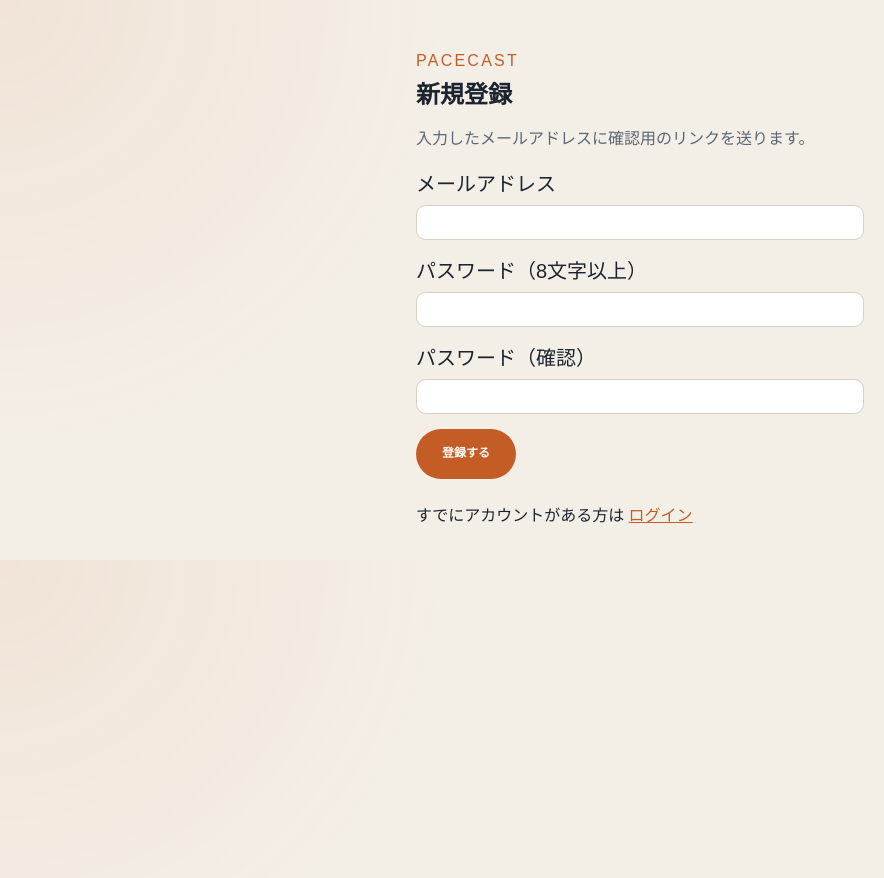
Test case: 新規登録 › メールを送れたときは画面にリンクを出さない
Type "runner@example.com" into the field labelled "メールアドレス". click: (640, 223)
box: [416, 205, 864, 240]
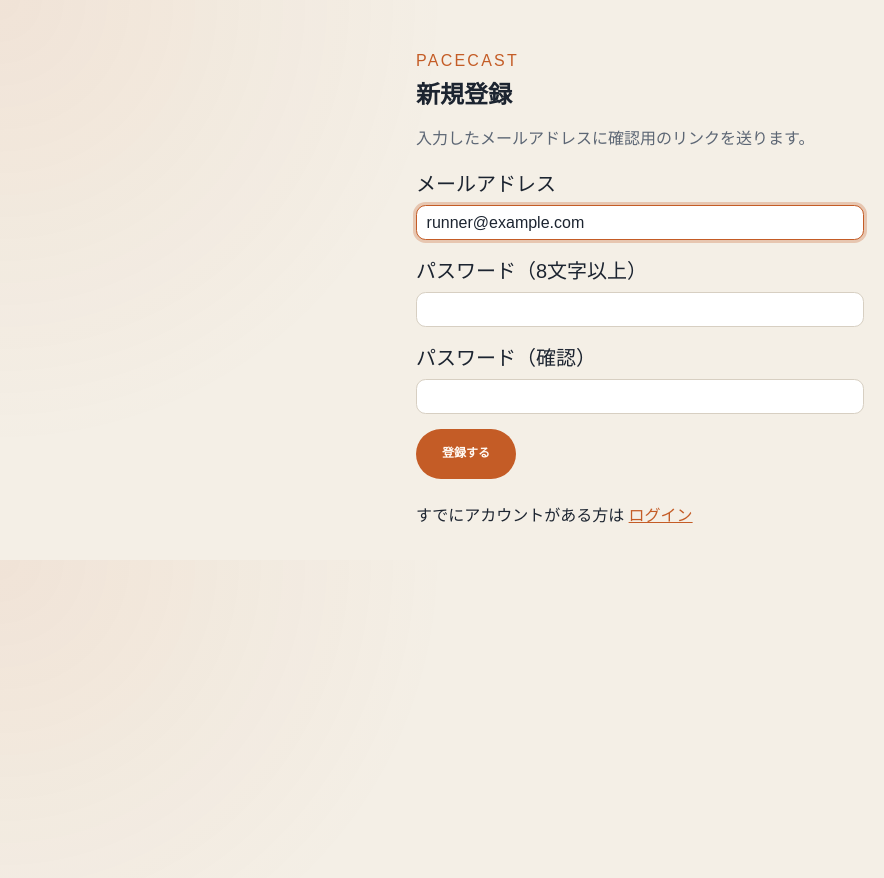
Type "secret123" into the password field labelled "パスワード（8文字以上）". click: (640, 310)
box: [416, 292, 864, 327]
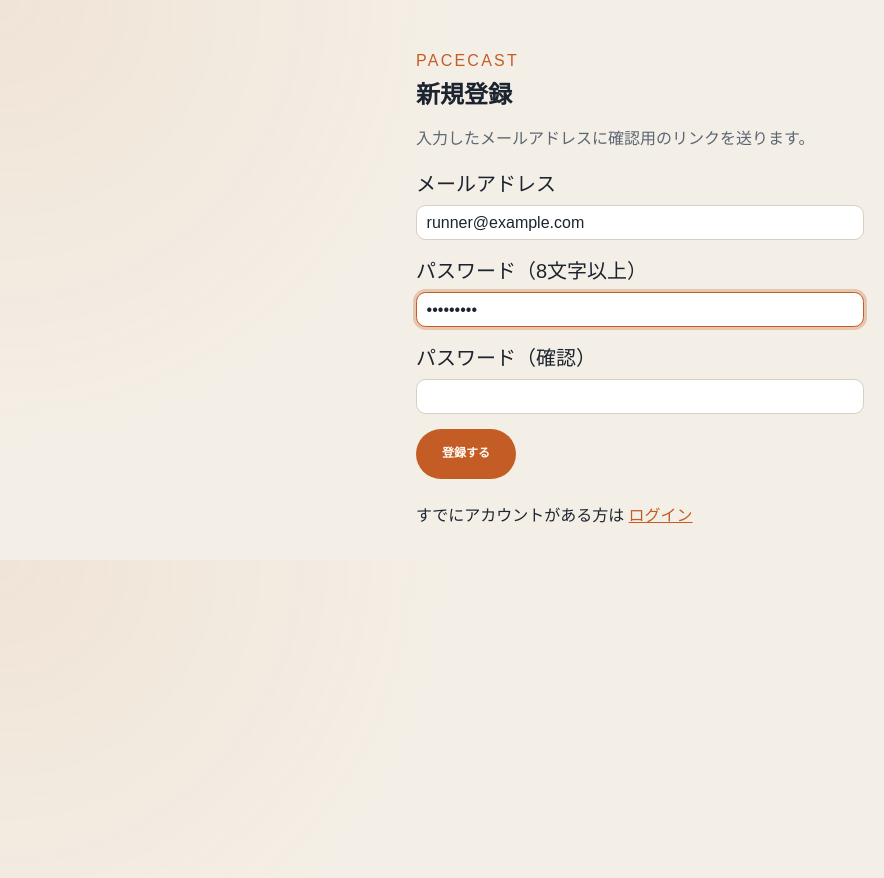
Type "secret123" into the password field labelled "パスワード（確認）". click: (640, 397)
box: [416, 379, 864, 414]
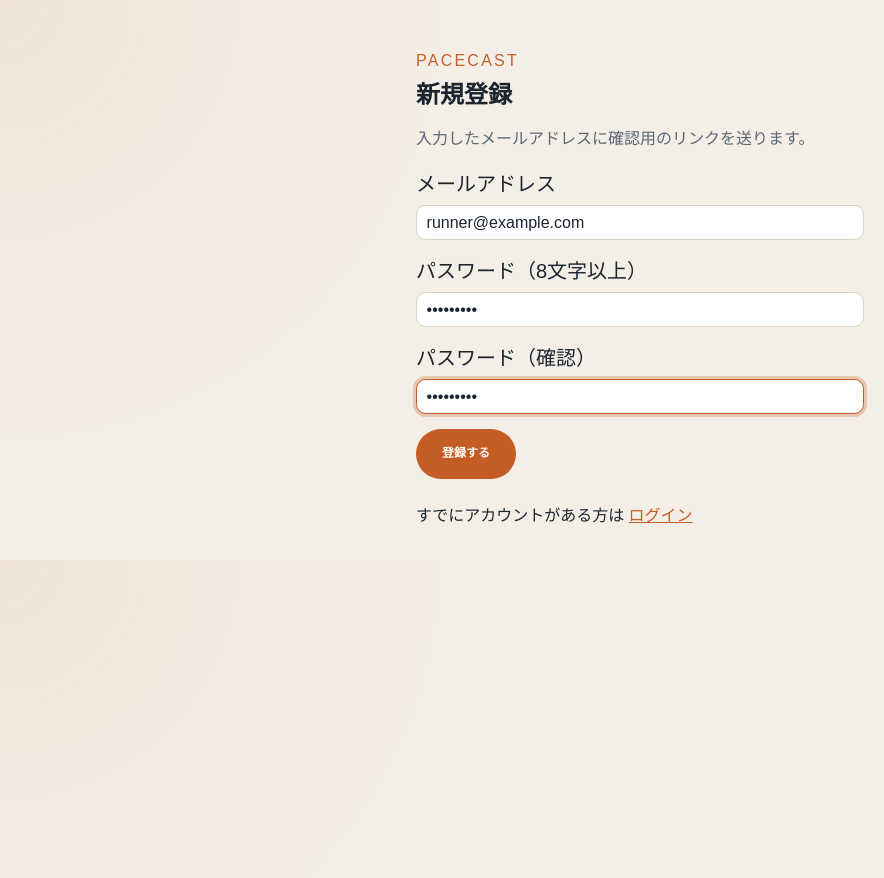
Click the button "登録する". click: (466, 454)
box: [416, 428, 516, 478]
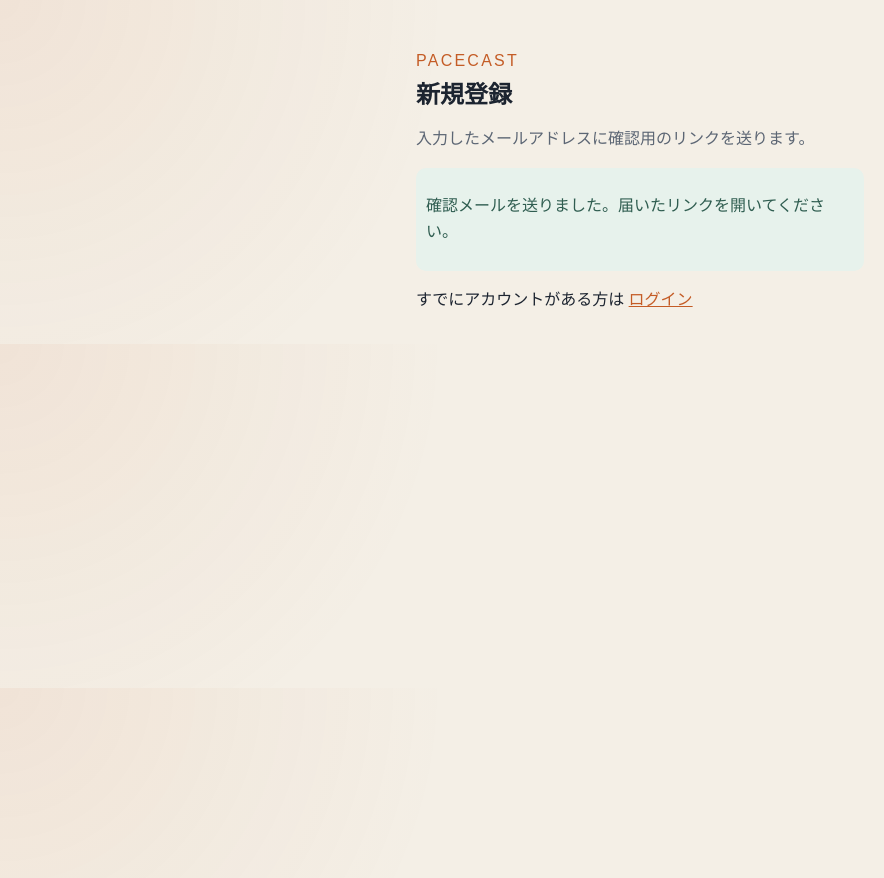
Result: the text "確認メールを送りました。届いたリンクを開いてください。" is shown at [426, 194, 854, 245]
